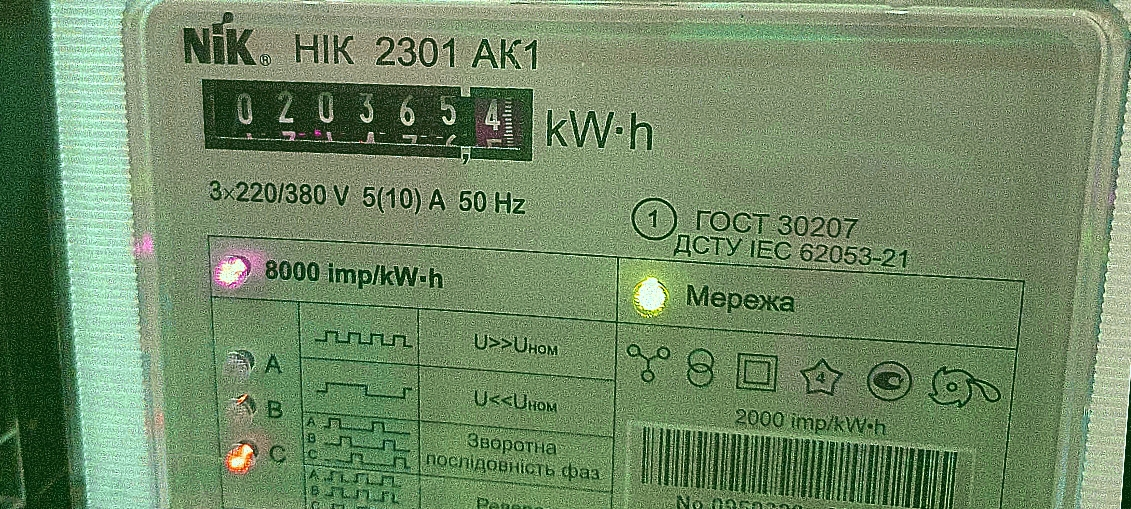0: (315, 88, 337, 125), (233, 90, 256, 125)
2: (273, 88, 297, 125)
3: (356, 88, 377, 124)
4: (482, 96, 503, 131)
5: (437, 93, 459, 126)
6: (396, 91, 418, 128)
screen: (180, 53, 556, 182)
